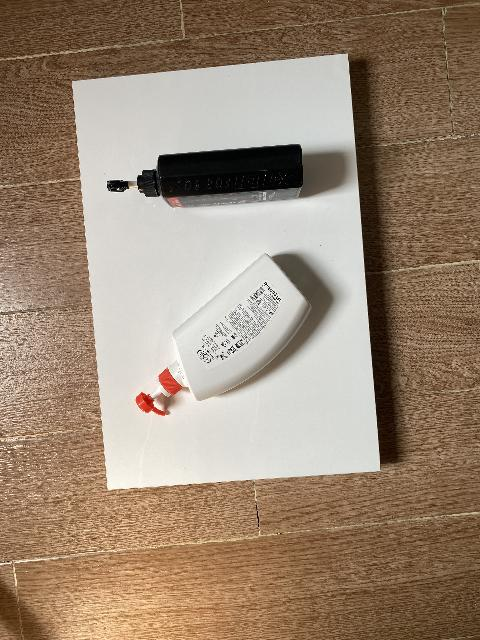X-men: (106, 144, 304, 208)
life-buoy: (134, 254, 311, 416)
